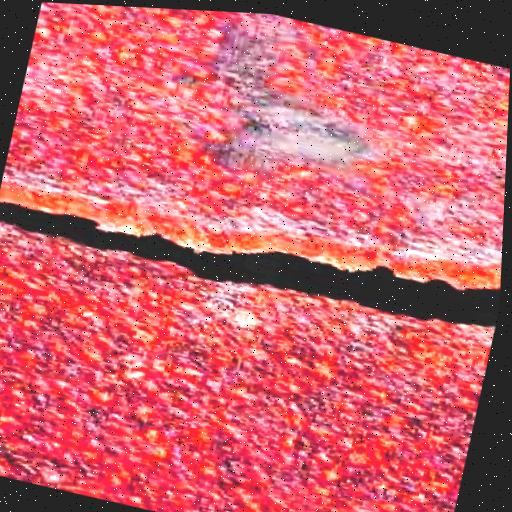corrosion: (3, 1, 512, 268), (0, 243, 486, 512)
crack: (0, 163, 505, 356)
